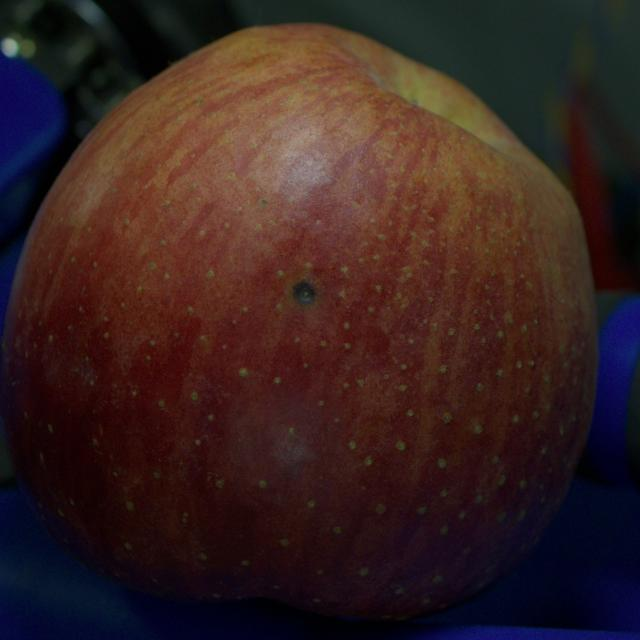apple: (0, 25, 597, 619)
pest: (294, 282, 315, 303)
